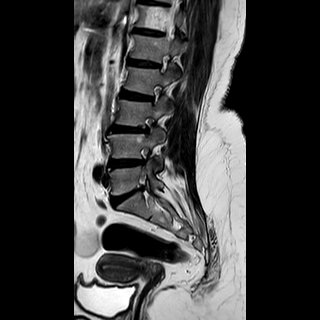RFS0: (152, 49, 174, 78)
RFS1: (143, 78, 166, 110)
RFS2: (136, 110, 160, 140)
